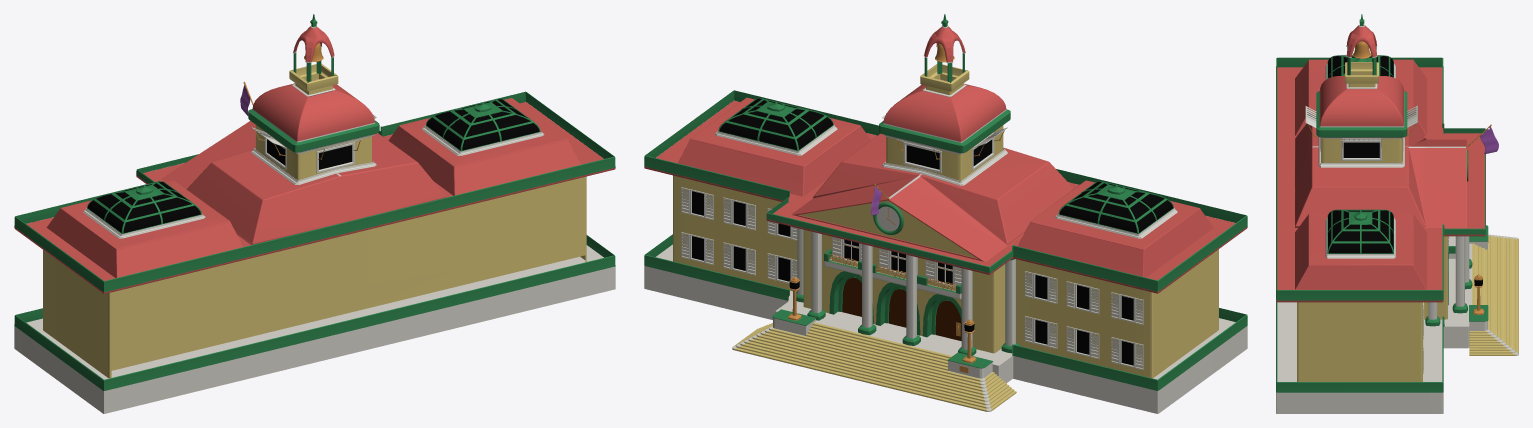
Rendered from Enviro_Building_Capital_Untextured.fbx.
3 views of the same model, side by side, from view 1: azimuth 30°, elevation 25°; view 2: azimuth 150°, elevation 25°; view 3: azimuth 270°, elevation 25° (orthographic). The views are drawn at different scales.
Visible parts, largest first — view 1: Walls, Foundation_Base, Center_Roof, Railing_Roof, Foundation_Rail, Roof_Belltower, Right_Roof, Left_Roof, Dome_Glass (×2), Base_Roof, Dome_Right_Roof, Dome_Left_Roof (+5 smaller); view 2: Walls, Center_Roof, Foundation_Base, Stairs, Railing_Roof, Roof_Belltower, Right_Roof, Left_Roof, Dome_Glass (×2), Foundation_Rail, Base_Roof, Doors (+15 smaller); view 3: Center_Roof, Walls, Base_Roof, Foundation_Base, Left_Roof, Roof_Belltower, Stairs, Railing_Roof, Right_Roof, Dome_Glass (×2), Foundation_Rail, Dome_Left_Roof (+13 smaller).
Part boxes in pixels (bbox=[...]): Walls: bbox=[43, 176, 586, 378]; Foundation_Base: bbox=[14, 245, 615, 413]; Center_Roof: bbox=[161, 81, 446, 244]; Railing_Roof: bbox=[14, 91, 615, 292]; Foundation_Rail: bbox=[14, 235, 615, 390]; Roof_Belltower: bbox=[248, 79, 379, 180]; Right_Roof: bbox=[46, 180, 243, 277]; Left_Roof: bbox=[388, 98, 580, 195]; Dome_Glass (×2): bbox=[87, 99, 539, 233]; Base_Roof: bbox=[14, 102, 615, 293]; Dome_Right_Roof: bbox=[87, 181, 201, 233]; Dome_Left_Roof: bbox=[425, 98, 540, 151]; Walls: bbox=[673, 175, 1218, 378]; Center_Roof: bbox=[791, 133, 1073, 261]; Foundation_Base: bbox=[644, 244, 1247, 413]; Stairs: bbox=[732, 318, 1016, 411]; Railing_Roof: bbox=[644, 90, 1247, 291]; Roof_Belltower: bbox=[879, 79, 1010, 180]; Right_Roof: bbox=[1018, 180, 1213, 277]; Left_Roof: bbox=[678, 97, 870, 196]; Dome_Glass (×2): bbox=[719, 98, 1172, 232]; Foundation_Rail: bbox=[644, 234, 1247, 390]; Base_Roof: bbox=[644, 101, 1247, 293]; Doors: bbox=[829, 271, 961, 341]; Center_Roof: bbox=[1295, 124, 1491, 227]; Walls: bbox=[1297, 236, 1447, 381]; Base_Roof: bbox=[1276, 67, 1485, 302]; Foundation_Base: bbox=[1276, 258, 1469, 413]; Left_Roof: bbox=[1295, 213, 1426, 289]; Roof_Belltower: bbox=[1316, 76, 1407, 162]; Stairs: bbox=[1469, 234, 1518, 355]; Railing_Roof: bbox=[1276, 57, 1485, 300]; Right_Roof: bbox=[1295, 59, 1426, 135]; Dome_Glass (×2): bbox=[1328, 55, 1393, 253]; Foundation_Rail: bbox=[1276, 301, 1444, 392]; Dome_Left_Roof: bbox=[1327, 209, 1393, 253].
Size of the model in its own units: 48.94 by 27.74 by 21.54.
